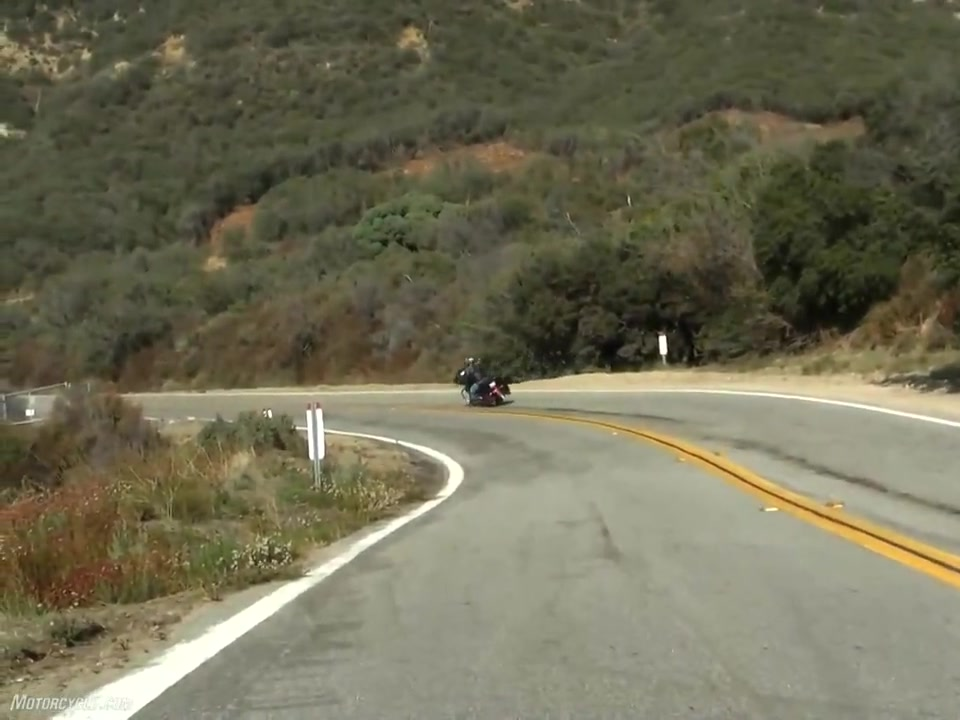motorbike: (452, 367, 519, 411)
